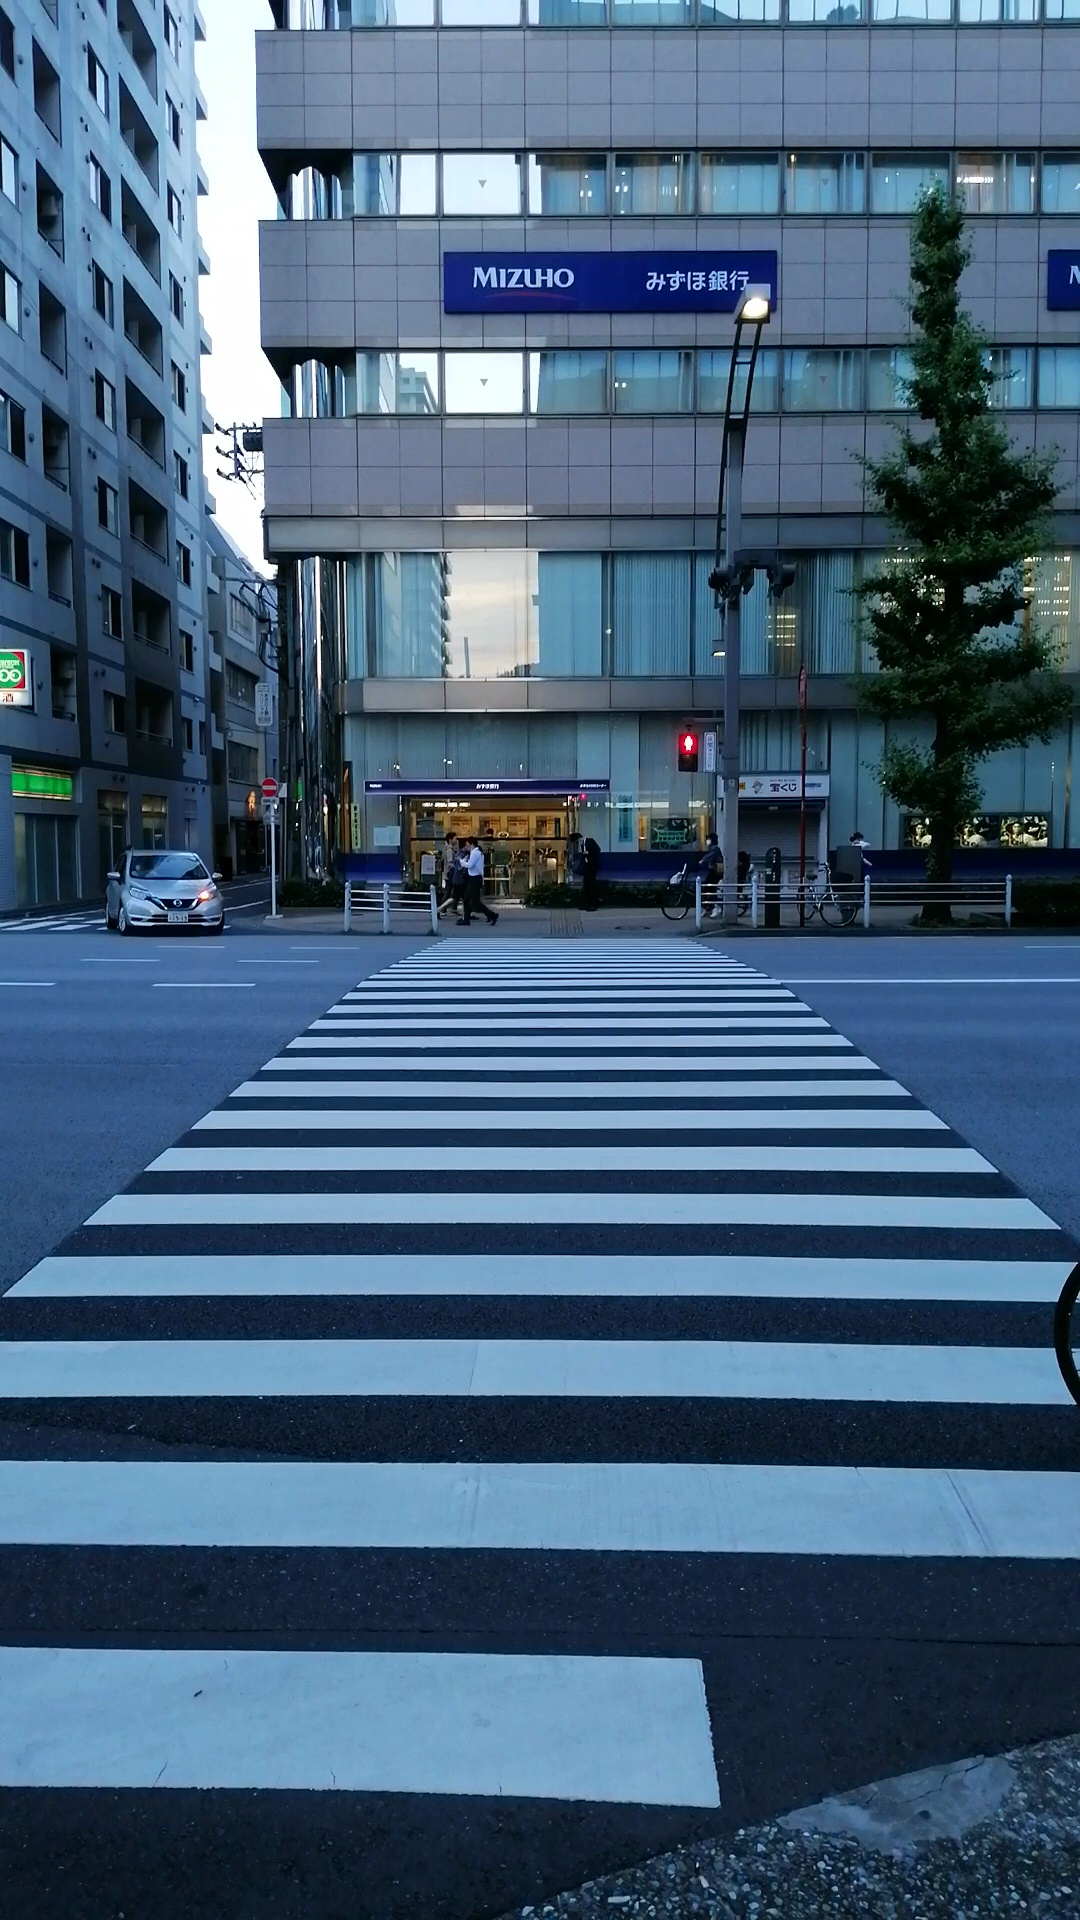red: (678, 731, 699, 775)
